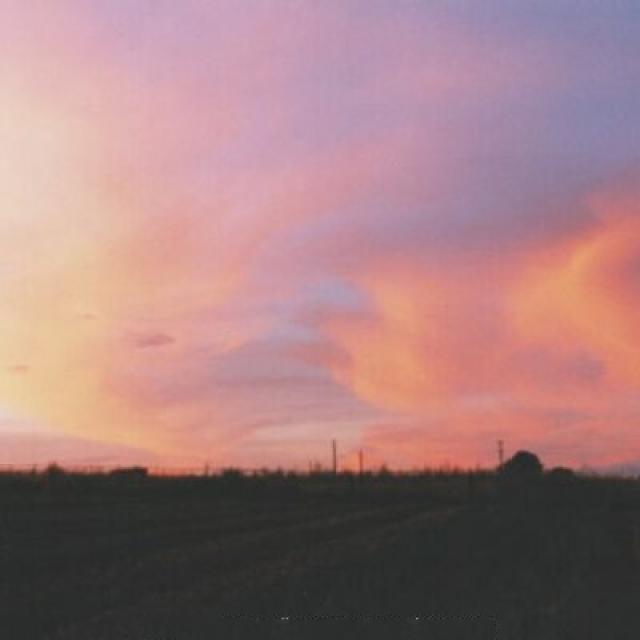As: (1, 77, 640, 415)
